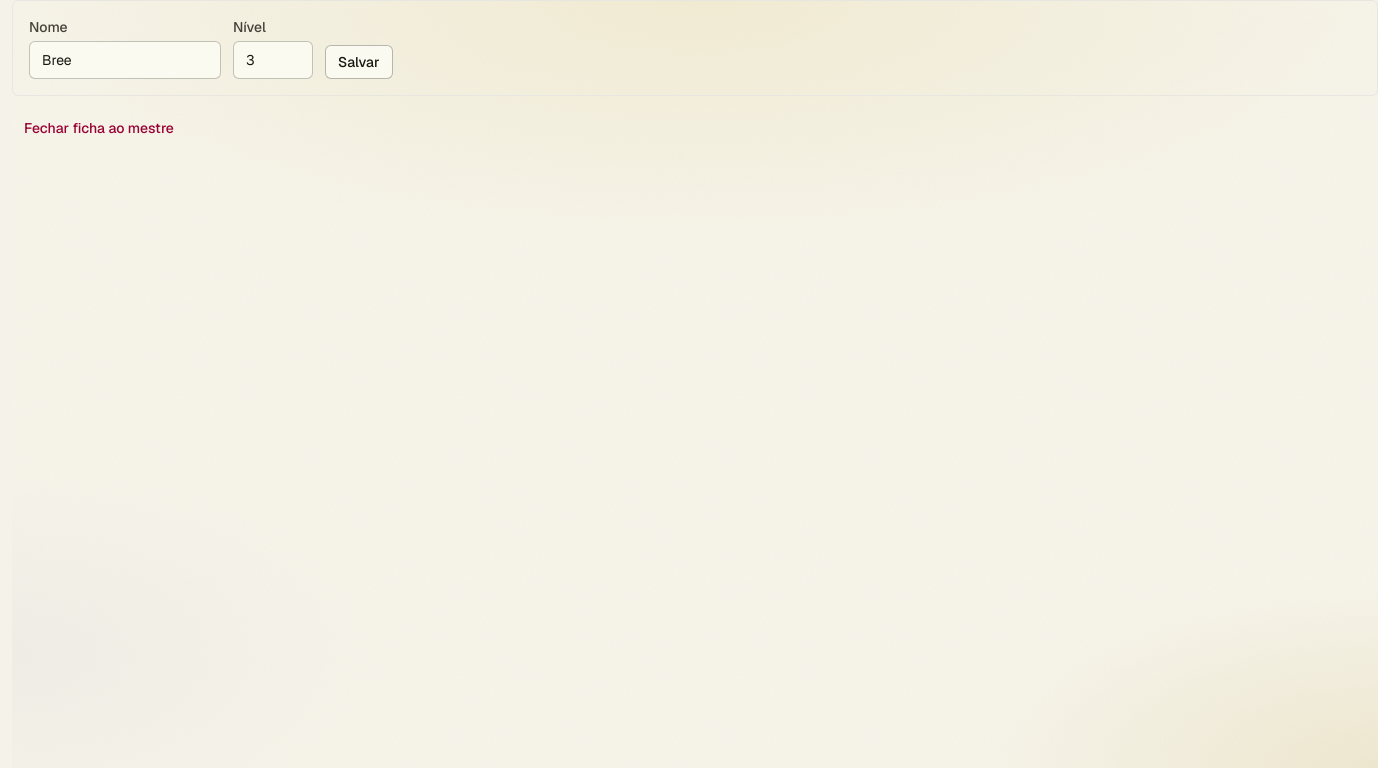
Test: FichaAcoes — edição › deve mostrar o erro da action como alerta legível
This screenshot has width=1378, height=768.
Click the button "Salvar": (359, 62) [325, 45, 392, 79]
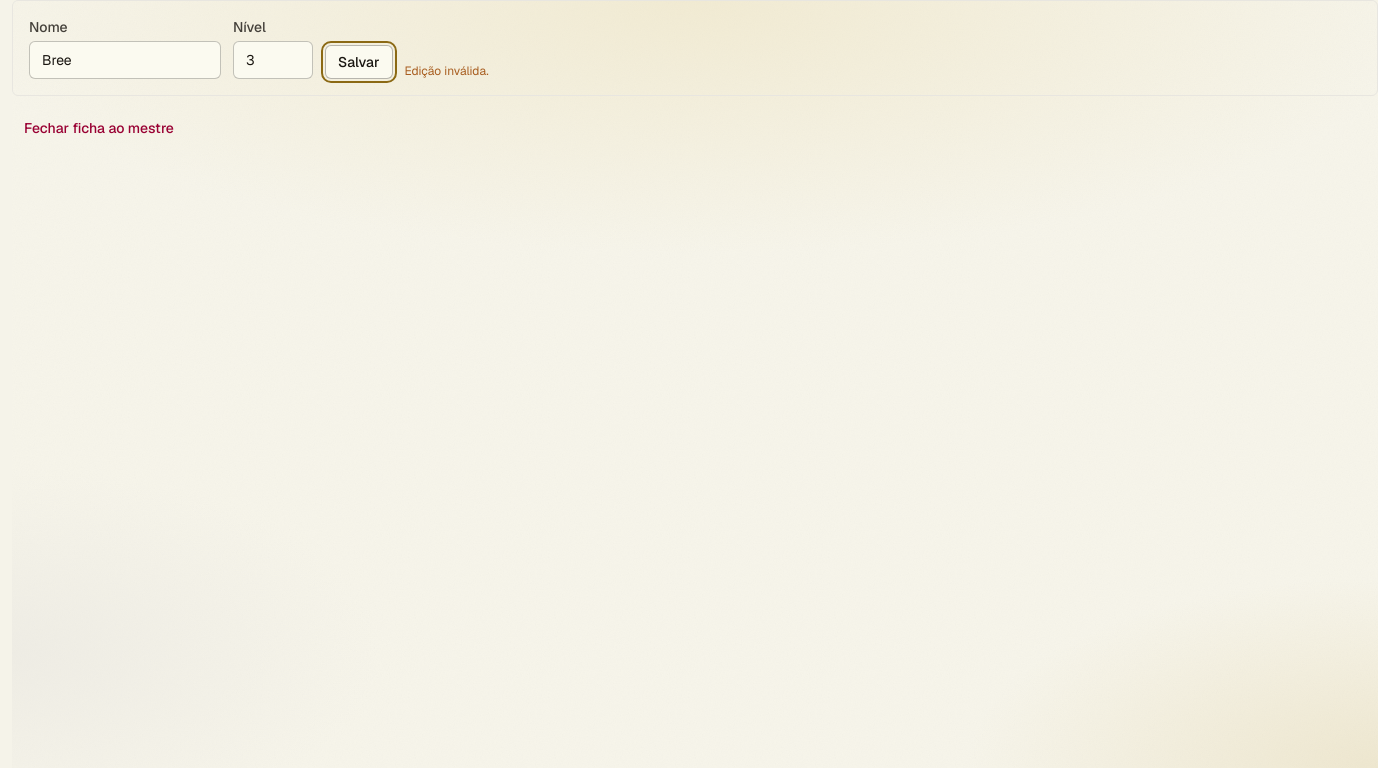
Now the message reads "Edição inválida.", box [404, 63, 489, 79]
